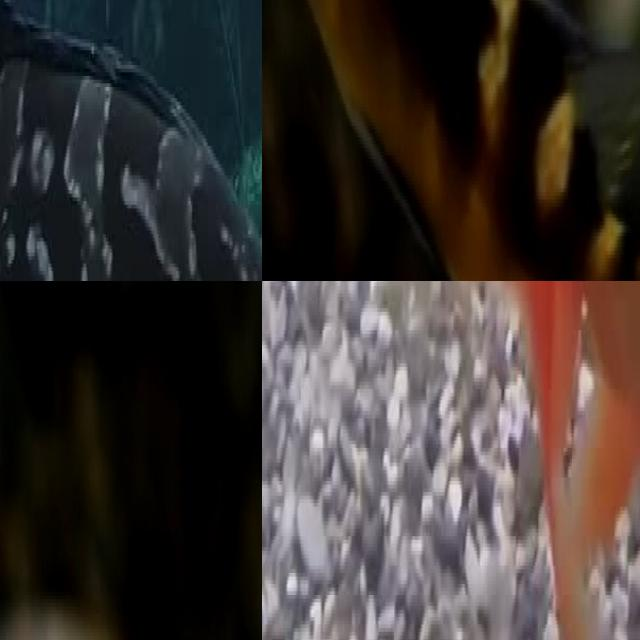fish: (382, 281, 640, 640), (0, 0, 262, 281)
